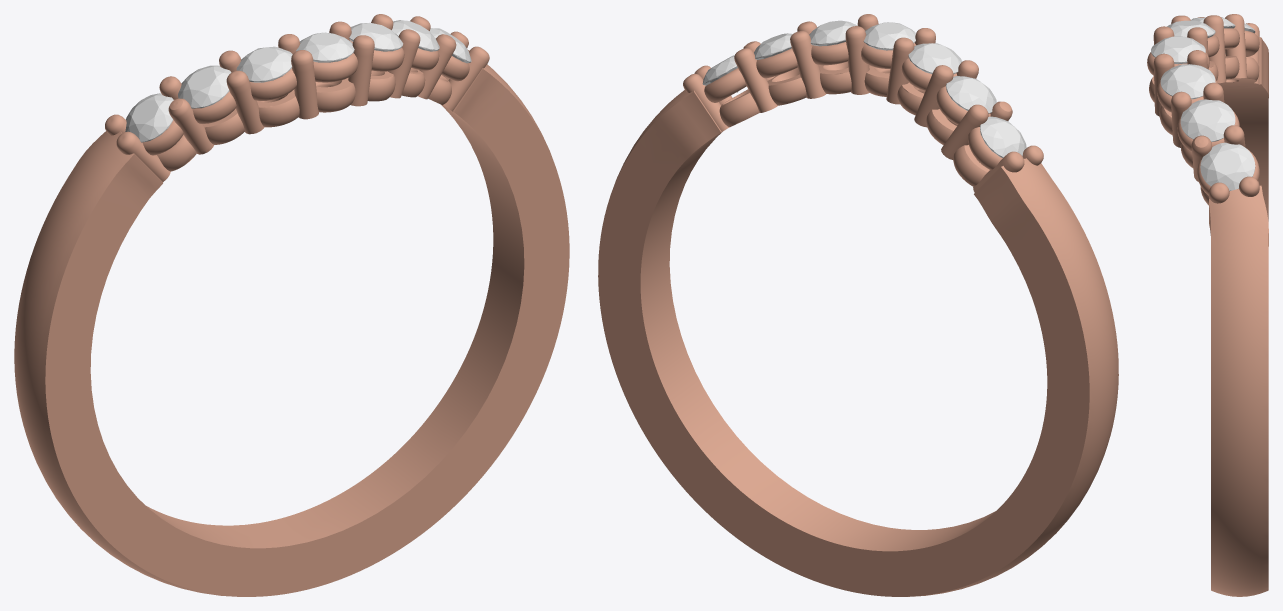
Rendered from Rosanna_RG_WB_blender.glb.
3 views of the same model, side by side, from view 1: azimuth 30°, elevation 25°; view 2: azimuth 150°, elevation 25°; view 3: azimuth 270°, elevation 25° (orthographic). The views are drawn at different scales.
Parts seen in each view (by area): view 1: Rosanna RG for 3d model, Rosanna dia for 3d model.006, Rosanna dia for 3d model.005, Rosanna dia for 3d model.004, Rosanna dia for 3d model.003, Rosanna dia for 3d model.002; view 2: Rosanna RG for 3d model, Rosanna dia for 3d model.006, Rosanna dia for 3d model.005, Rosanna dia for 3d model.004, Rosanna dia for 3d model.003, Rosanna dia for 3d model.002; view 3: Rosanna RG for 3d model, Rosanna dia for 3d model, Rosanna dia for 3d model.001, Rosanna dia for 3d model.002, Rosanna dia for 3d model.003, Rosanna dia for 3d model.004.
Boxes of the visible parts, x1,y1,x2,y2 form: Rosanna RG for 3d model: [14, 14, 569, 596]; Rosanna dia for 3d model.006: [125, 93, 173, 142]; Rosanna dia for 3d model.005: [178, 65, 231, 108]; Rosanna dia for 3d model.004: [236, 46, 292, 82]; Rosanna dia for 3d model.003: [296, 32, 354, 62]; Rosanna dia for 3d model.002: [349, 22, 403, 51]; Rosanna RG for 3d model: [598, 14, 1118, 596]; Rosanna dia for 3d model.006: [980, 116, 1026, 157]; Rosanna dia for 3d model.005: [946, 76, 996, 113]; Rosanna dia for 3d model.004: [908, 43, 962, 73]; Rosanna dia for 3d model.003: [863, 22, 915, 50]; Rosanna dia for 3d model.002: [809, 20, 857, 46]; Rosanna RG for 3d model: [1147, 14, 1268, 596]; Rosanna dia for 3d model: [1200, 142, 1255, 191]; Rosanna dia for 3d model.001: [1180, 99, 1235, 141]; Rosanna dia for 3d model.002: [1160, 64, 1215, 99]; Rosanna dia for 3d model.003: [1151, 36, 1205, 64]; Rosanna dia for 3d model.004: [1167, 20, 1215, 37].
Size of the model in its own units: 20.92 by 21.32 by 4.44.
